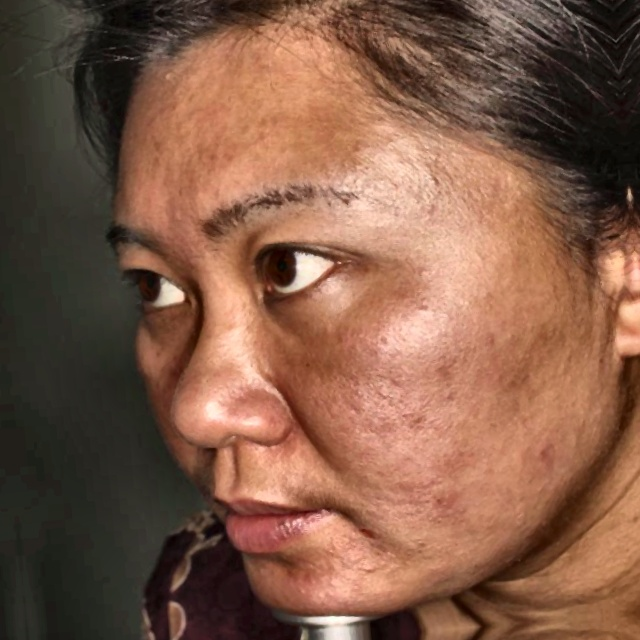comedone: (530, 439, 561, 467)
